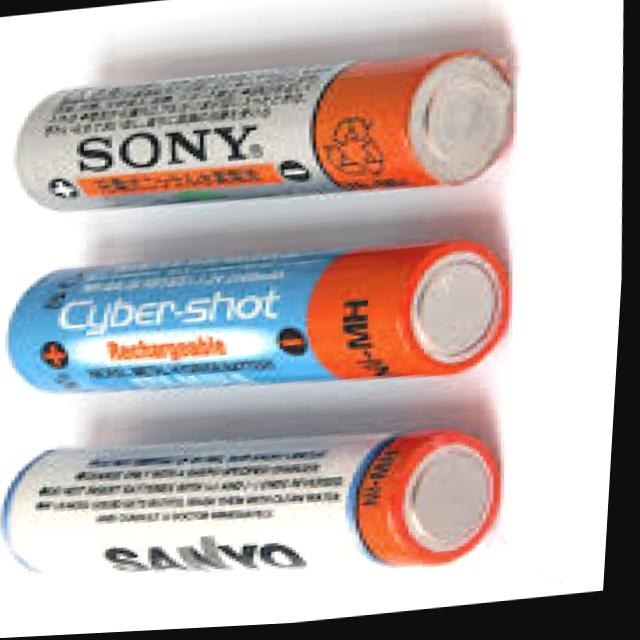B3: (0, 2, 598, 633)
